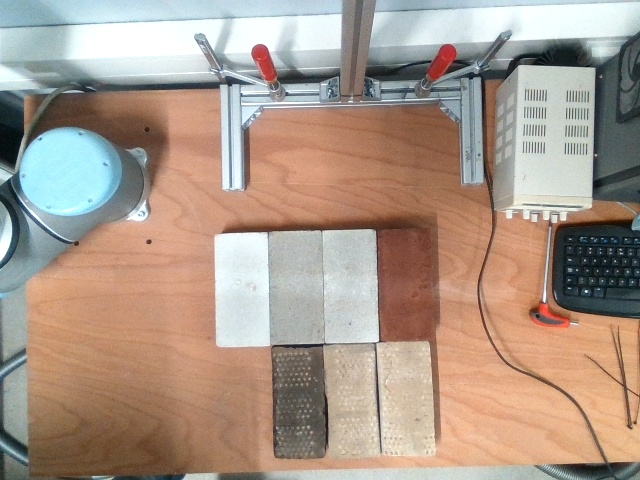brick: (378, 342, 432, 454), (324, 231, 377, 342), (270, 233, 322, 343), (380, 231, 434, 336), (273, 349, 324, 456), (327, 348, 376, 456), (217, 238, 266, 343)
